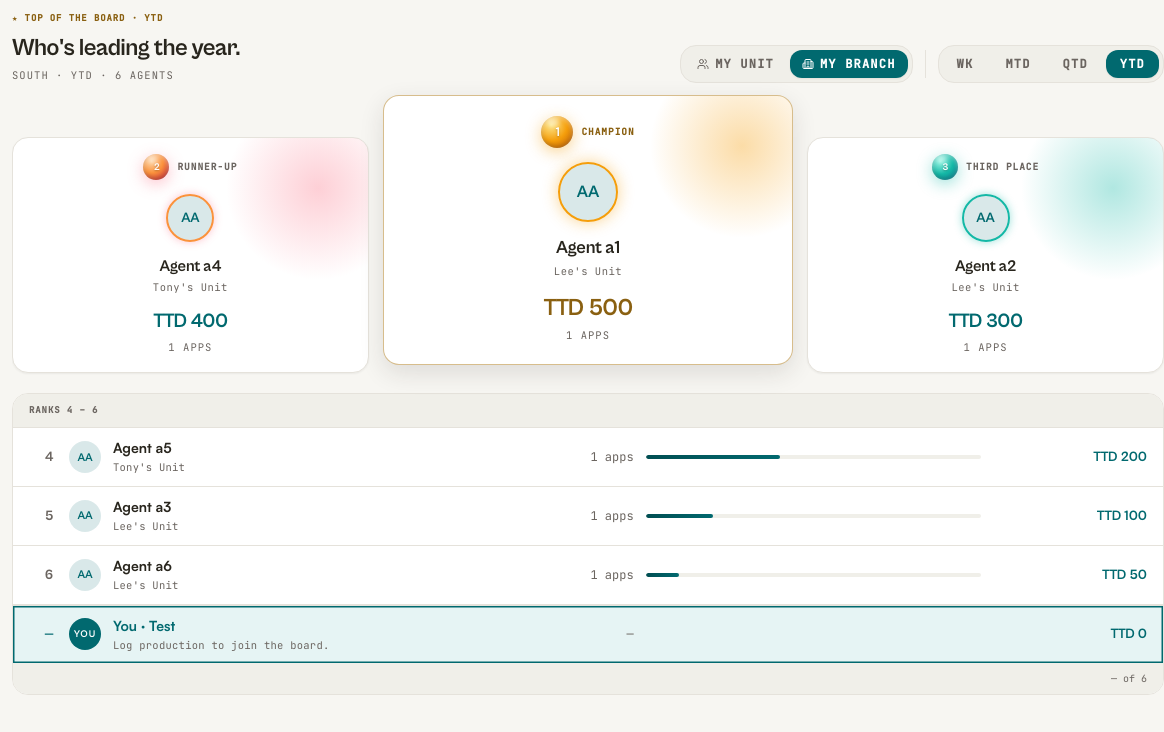
Test: ProductionLeaderboardSurface — scope filter re-scopes the surface › UM clicks My Unit → subtitle re-scopes to unit (4 agents) + podium re-ranks 1/2/3 in unit
Click the tab with test id "leaderboard-scope-myunit" at (736, 64), box left=685, top=50, right=786, bottom=78
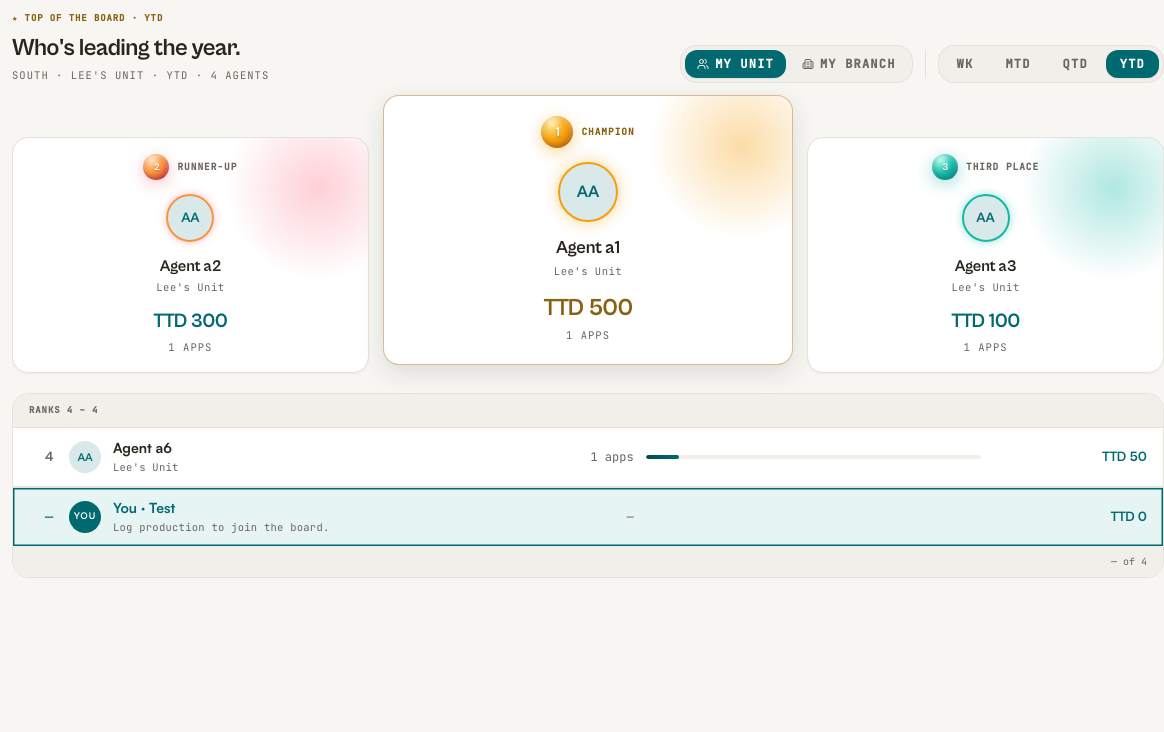
Expected: the text with test id "leaderboard-scope-subtitle" reads "South · Lee's Unit · YTD · 4 agents", left=12, top=68, right=269, bottom=83
Expected: no elements with test id "tail-row-rank-5" are shown
